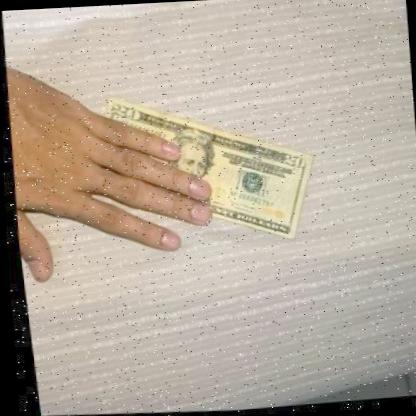twenty-front: (87, 80, 324, 258)
